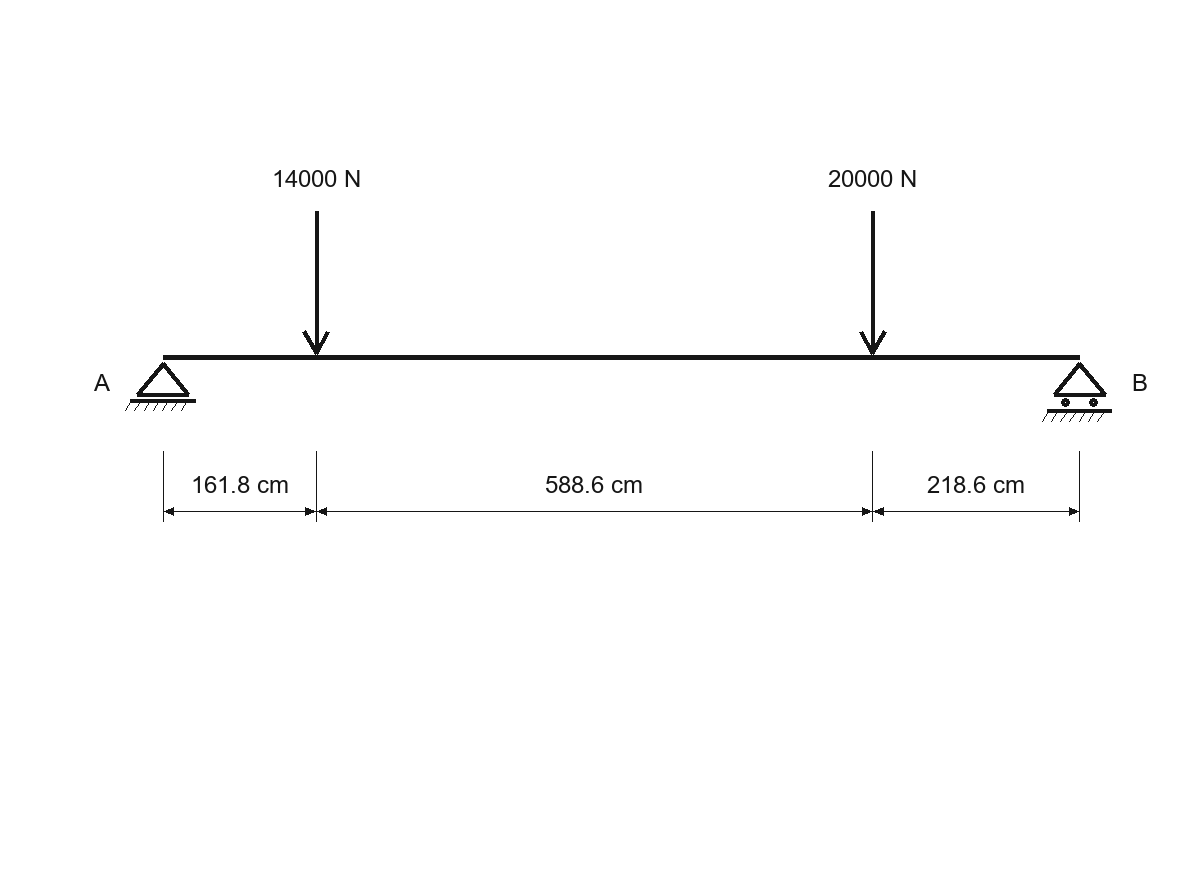pin_support: (125, 362, 196, 411)
point_load: (302, 211, 330, 355), (859, 211, 887, 355)
roller_support: (1042, 362, 1112, 422)
